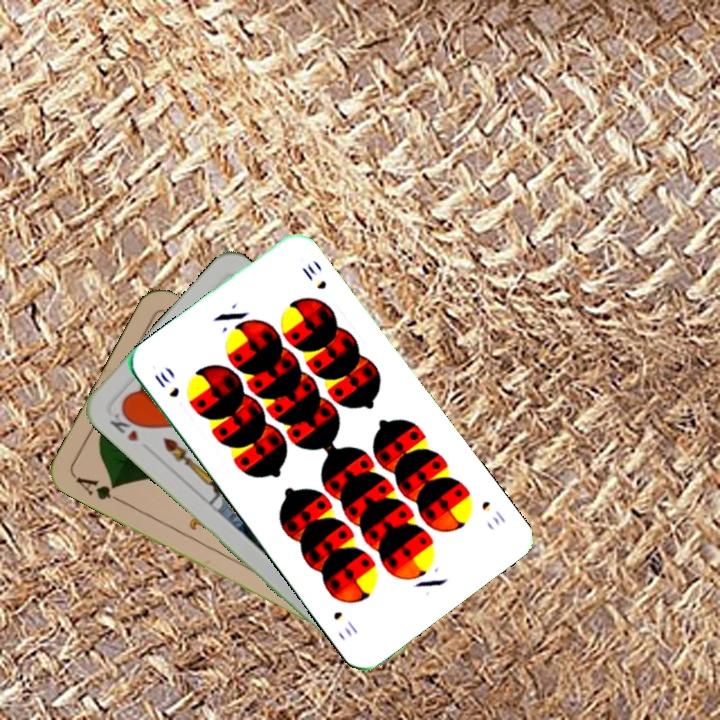GA: (71, 472, 126, 506)
HK: (105, 405, 145, 445)
S10: (150, 367, 182, 400), (477, 496, 508, 528)
